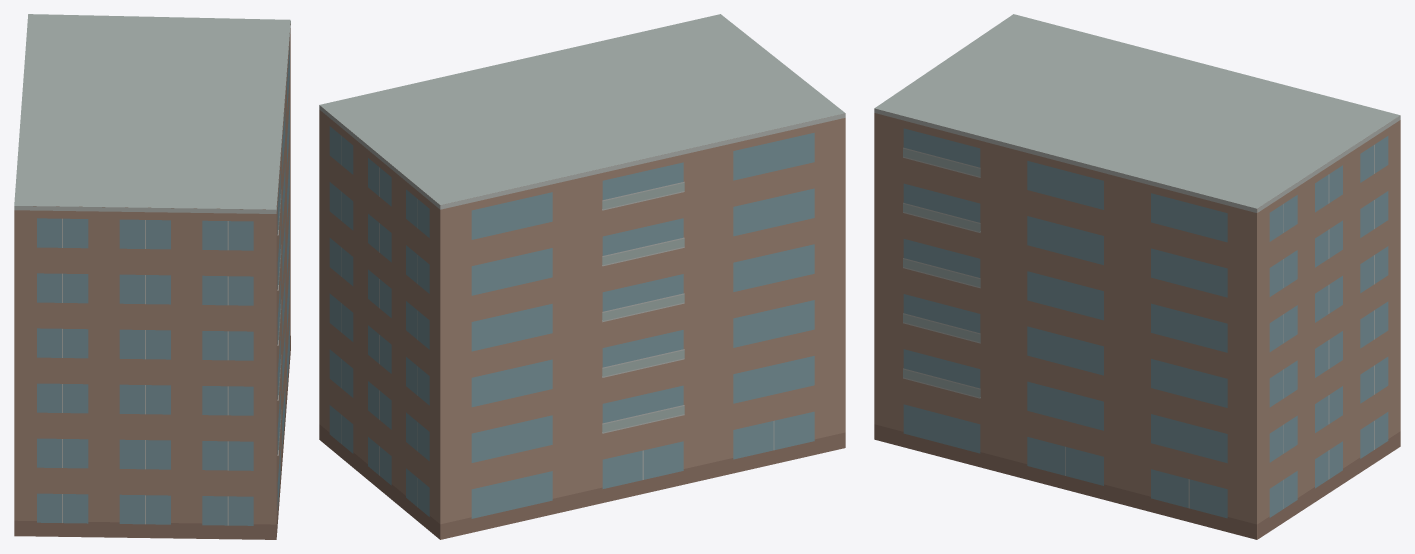
The model's file is survey-upis-33004473.glb.
3 renders of one model, left to right at view 1: azimuth 30°, elevation 25°; view 2: azimuth 150°, elevation 25°; view 3: azimuth 270°, elevation 25°, orthographic.
Visible parts, largest first — view 1: survey-upis-33004473.tmp; view 2: survey-upis-33004473.tmp; view 3: survey-upis-33004473.tmp.
Boxes of the visible parts, x1,y1,x2,y2 form: survey-upis-33004473.tmp: (14, 14, 290, 539); survey-upis-33004473.tmp: (319, 14, 845, 539); survey-upis-33004473.tmp: (874, 14, 1400, 539).
Bounding box in the file's own units: 22.83 × 18.1 × 26.08.
